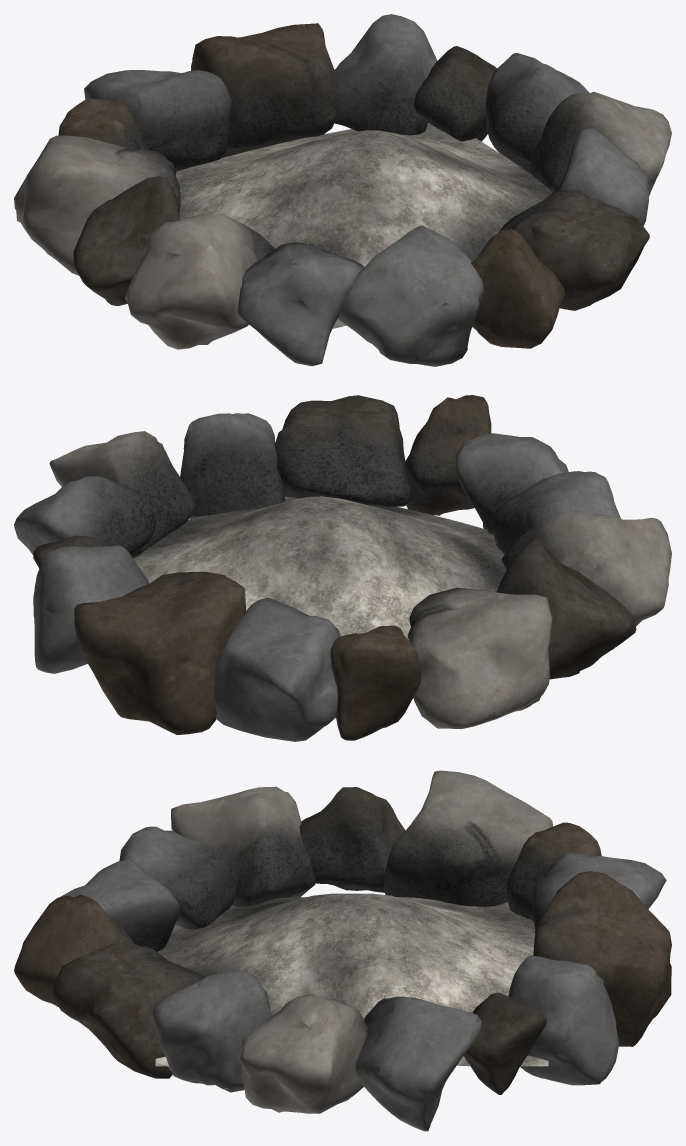
File: fire_pit.glb
3 renders of one model, top to bottom at view 1: azimuth 30°, elevation 25°; view 2: azimuth 150°, elevation 25°; view 3: azimuth 270°, elevation 25°, orthographic. The views are drawn at different scales.
Parts seen in each view (by area): view 1: g; view 2: g; view 3: g.
Part boxes in pixels (bbox=[...]): g: bbox=[14, 14, 671, 366]; g: bbox=[14, 395, 671, 741]; g: bbox=[14, 770, 671, 1131].
Bounding box in the file's own units: 2 × 0.4737 × 2.
1 material, 1 textured.
